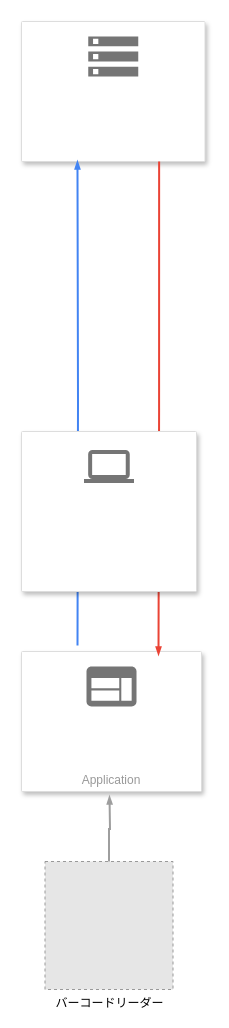
The diagram is 229 pixels wide and 1028 high, and some of its shapes have lost their labels. Grey dashed boxes stand in for pictures. Here are the shapes that lost their labels. From the top down, the centre of each, then its label:
point (113, 92): Storage
point (109, 512): Laptop
